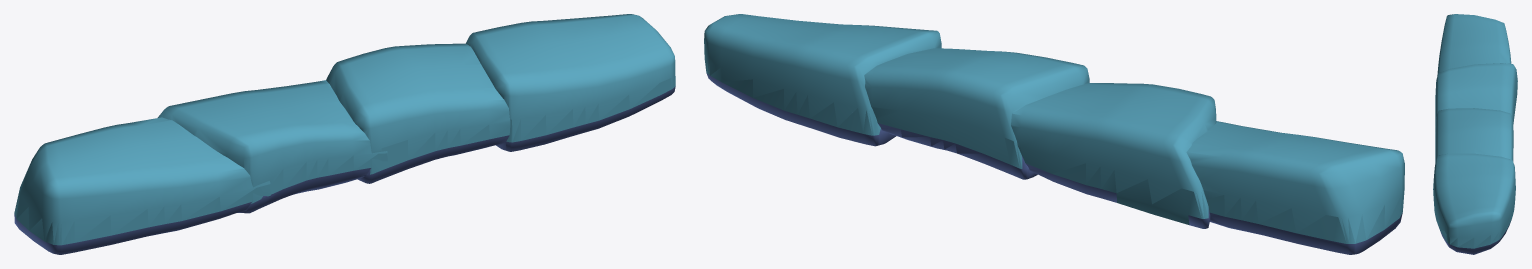
The picture shows the model from 3 angles, left to right: view 1: azimuth 30°, elevation 25°; view 2: azimuth 150°, elevation 25°; view 3: azimuth 270°, elevation 25°; orthographic projection. The views are drawn at different scales.
Parts seen in each view (by area): view 1: Box001, 对象001; view 2: Box001, 对象001; view 3: Box001, 对象001.
Boxes of the visible parts, x1=… form: Box001: x1=14, y1=14, x2=675, y2=245; 对象001: x1=14, y1=86, x2=675, y2=254; Box001: x1=704, y1=14, x2=1404, y2=243; 对象001: x1=706, y1=73, x2=1402, y2=254; Box001: x1=1433, y1=14, x2=1517, y2=248; 对象001: x1=1440, y1=220, x2=1511, y2=254.
Bounding box in the file's own units: 207 × 29.78 × 37.25.
